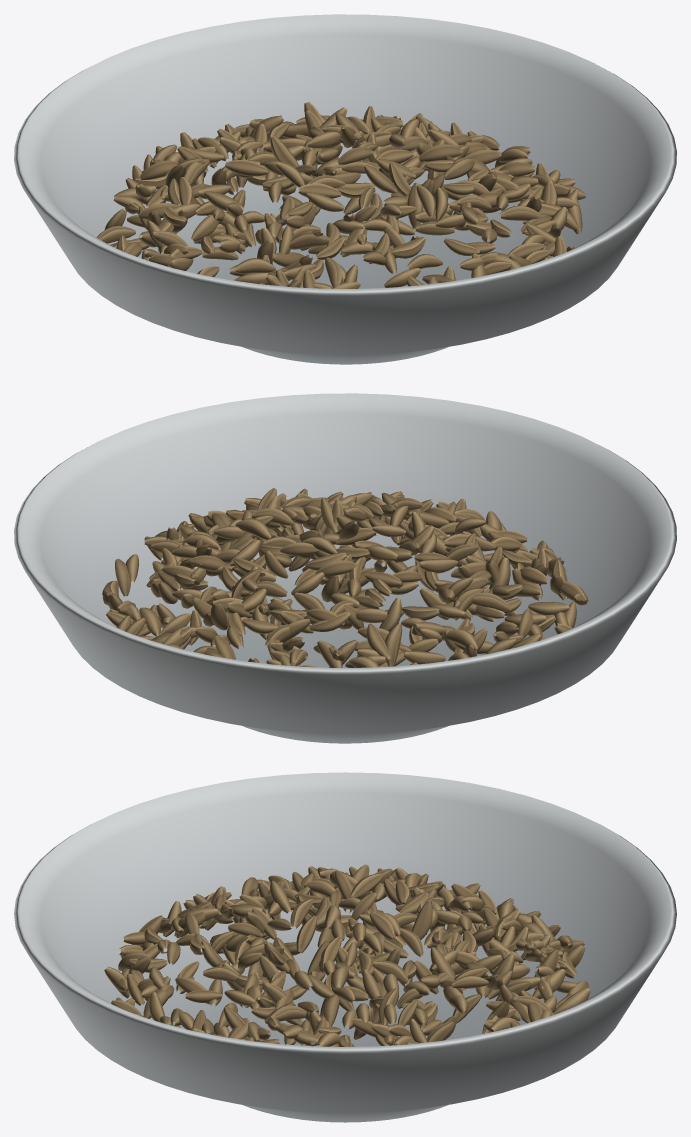
File: cumin-seeds.glb
3 renders of one model, top to bottom at view 1: azimuth 30°, elevation 25°; view 2: azimuth 150°, elevation 25°; view 3: azimuth 270°, elevation 25°, orthographic.
Visible parts, largest first — view 1: steel, seeds; view 2: steel, seeds; view 3: steel, seeds.
Part boxes in pixels (box(x1,y1,x2,y2)): steel: box(14, 14, 676, 364); seeds: box(96, 101, 585, 288); steel: box(14, 393, 676, 743); seeds: box(102, 488, 588, 667); steel: box(14, 772, 676, 1122); seeds: box(104, 864, 590, 1046).
Size of the model in its own units: 1.24 by 0.309 by 1.24.
